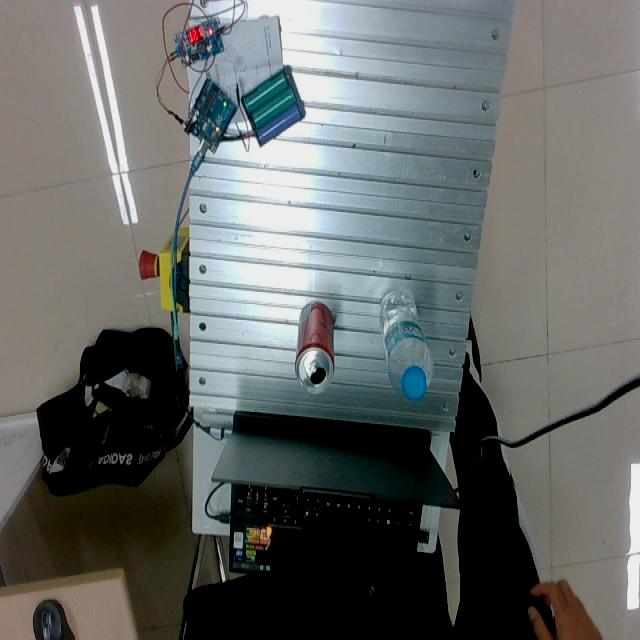coca: (294, 301, 335, 396)
lavie: (378, 289, 433, 403)
